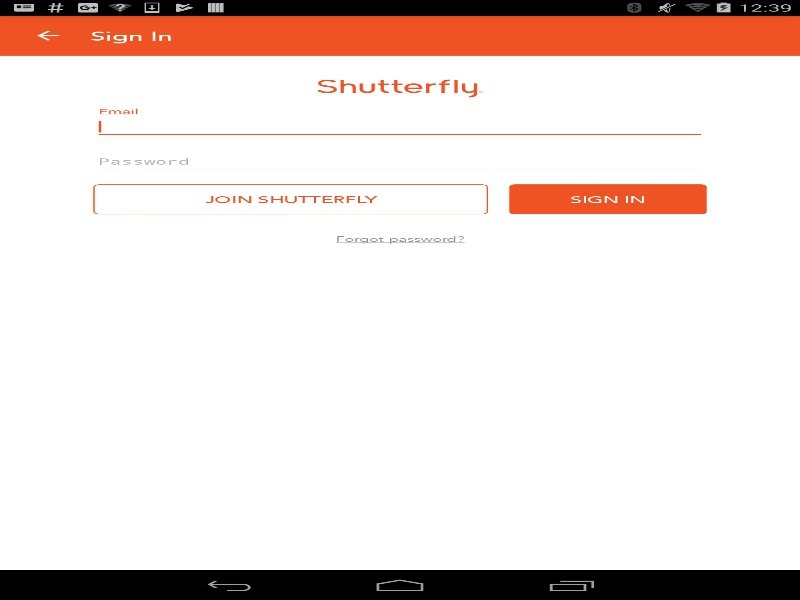Button: (93, 184, 488, 214), (509, 184, 706, 214), (335, 224, 464, 254), (10, 18, 85, 53)
Input: (93, 114, 706, 139), (93, 149, 706, 174)
